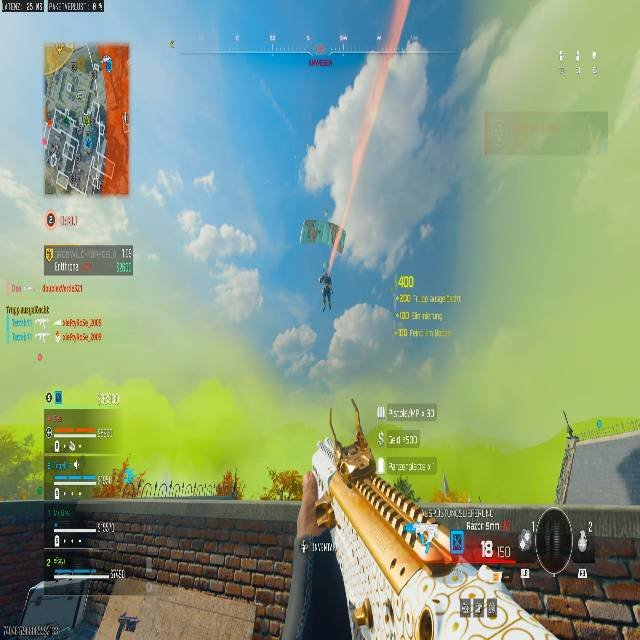player: (131, 193, 262, 322)
